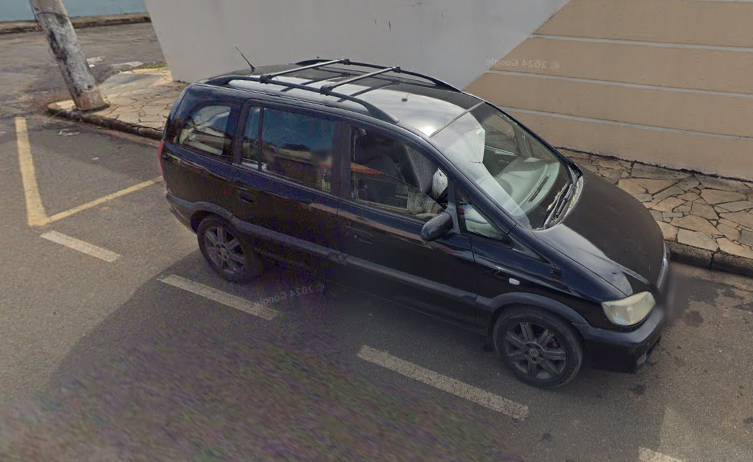car: (158, 56, 677, 412)
